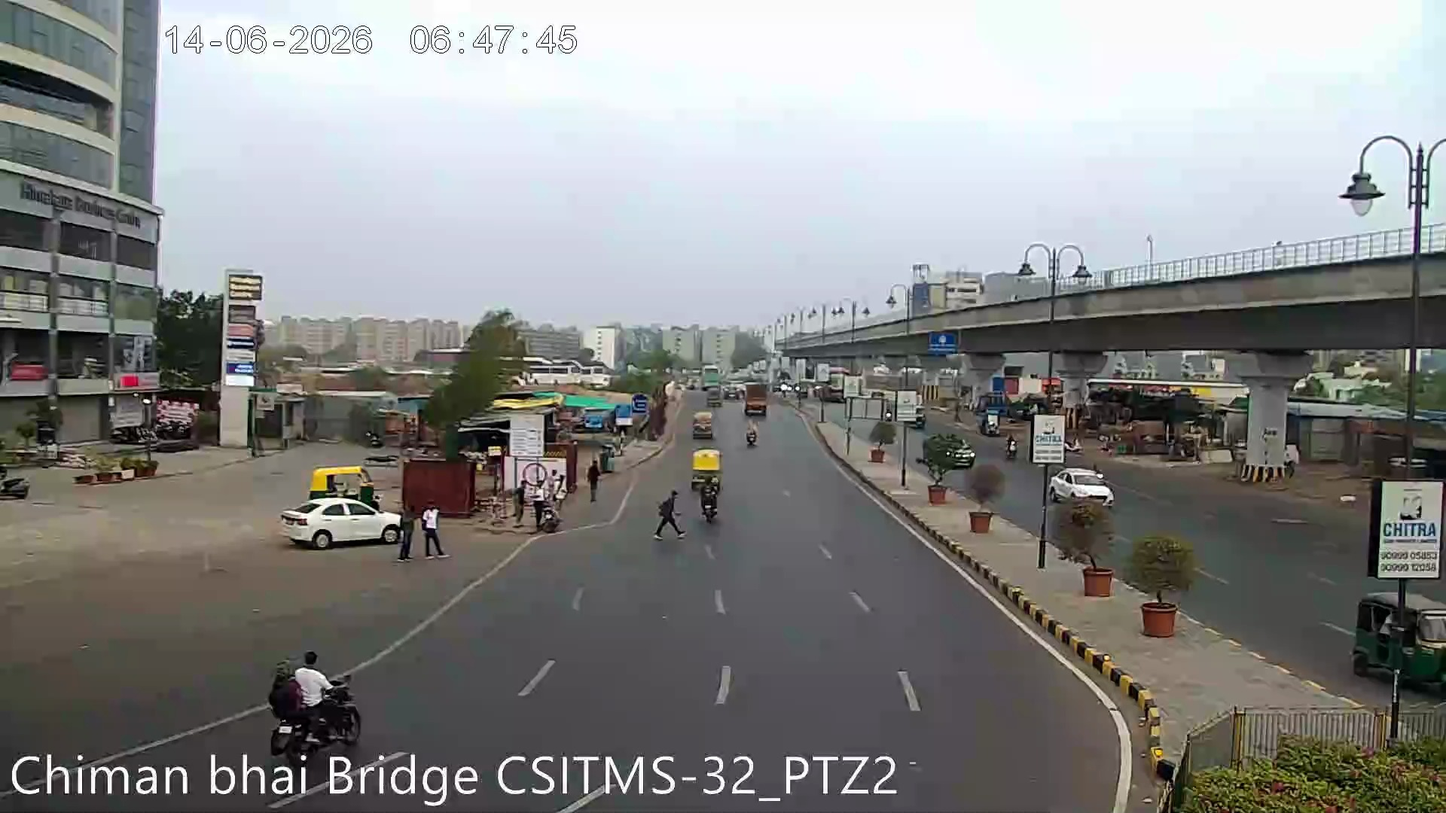auto_rickshaw: (1345, 582, 1446, 688), (306, 459, 376, 505), (689, 443, 723, 483), (0, 459, 33, 500), (691, 408, 717, 439), (744, 393, 769, 417)
car: (276, 491, 407, 552), (1046, 463, 1116, 507)
pedestrian: (651, 486, 685, 544), (415, 499, 440, 566), (420, 498, 445, 563), (395, 505, 414, 565), (585, 458, 603, 506), (1003, 431, 1019, 464)
two_wheeler: (261, 643, 367, 753), (697, 480, 722, 527), (743, 419, 762, 452), (1003, 429, 1019, 463)
